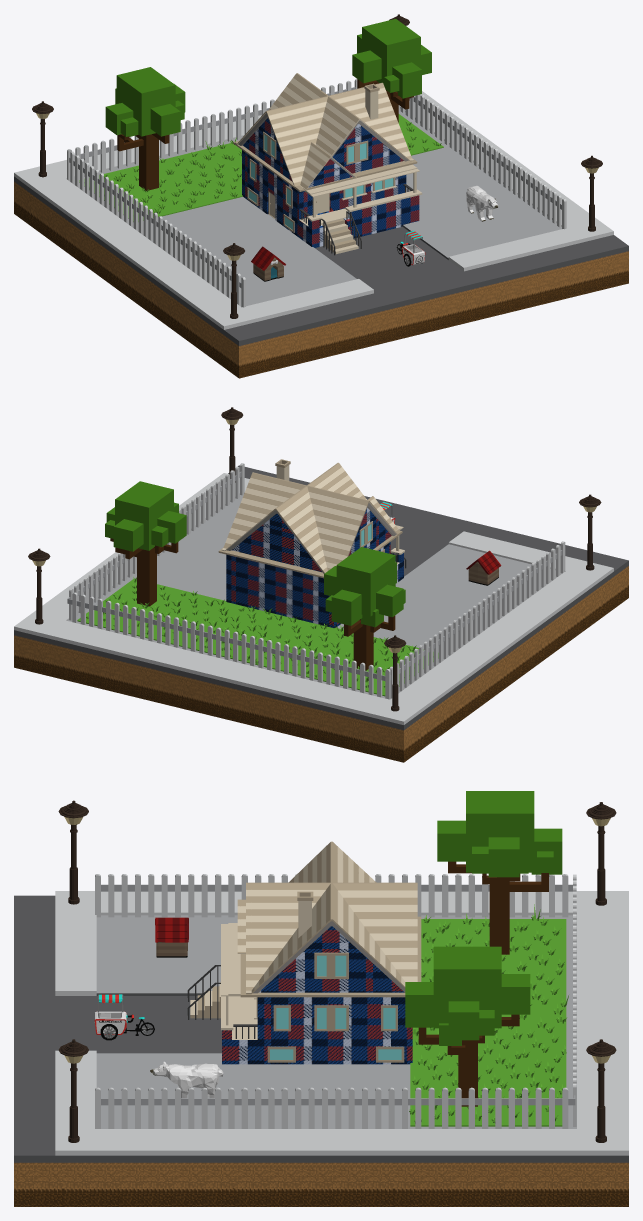
3 renders of one model, top to bottom at view 1: azimuth 30°, elevation 25°; view 2: azimuth 150°, elevation 25°; view 3: azimuth 270°, elevation 25°, orthographic. The views are drawn at different scales.
Visible parts, largest first — view 1: Cube.004, Cube.171, OBJRANDOM_DOGHOUSE, ANIMAL_OSO_POLAR, VEHICLES_SNOWBAL_BIKE; view 2: Cube.004, Cube.171, OBJRANDOM_DOGHOUSE; view 3: Cube.004, Cube.171, ANIMAL_OSO_POLAR, VEHICLES_SNOWBAL_BIKE, OBJRANDOM_DOGHOUSE.
Boxes of the visible parts, bbox=[...] form: Cube.004: bbox=[14, 14, 628, 378]; Cube.171: bbox=[233, 73, 422, 255]; OBJRANDOM_DOGHOUSE: bbox=[251, 246, 285, 281]; ANIMAL_OSO_POLAR: bbox=[466, 185, 498, 221]; VEHICLES_SNOWBAL_BIKE: bbox=[396, 230, 425, 266]; Cube.004: bbox=[14, 407, 628, 762]; Cube.171: bbox=[218, 459, 406, 627]; OBJRANDOM_DOGHOUSE: bbox=[466, 550, 501, 585]; Cube.004: bbox=[14, 791, 628, 1206]; Cube.171: bbox=[187, 841, 421, 1064]; ANIMAL_OSO_POLAR: bbox=[150, 1061, 223, 1098]; VEHICLES_SNOWBAL_BIKE: bbox=[94, 994, 154, 1040]; OBJRANDOM_DOGHOUSE: bbox=[155, 917, 188, 957].
Bounding box in the file's own units: 4000 × 1624 × 4000.
Materials: 35 (5 with a texture image).
